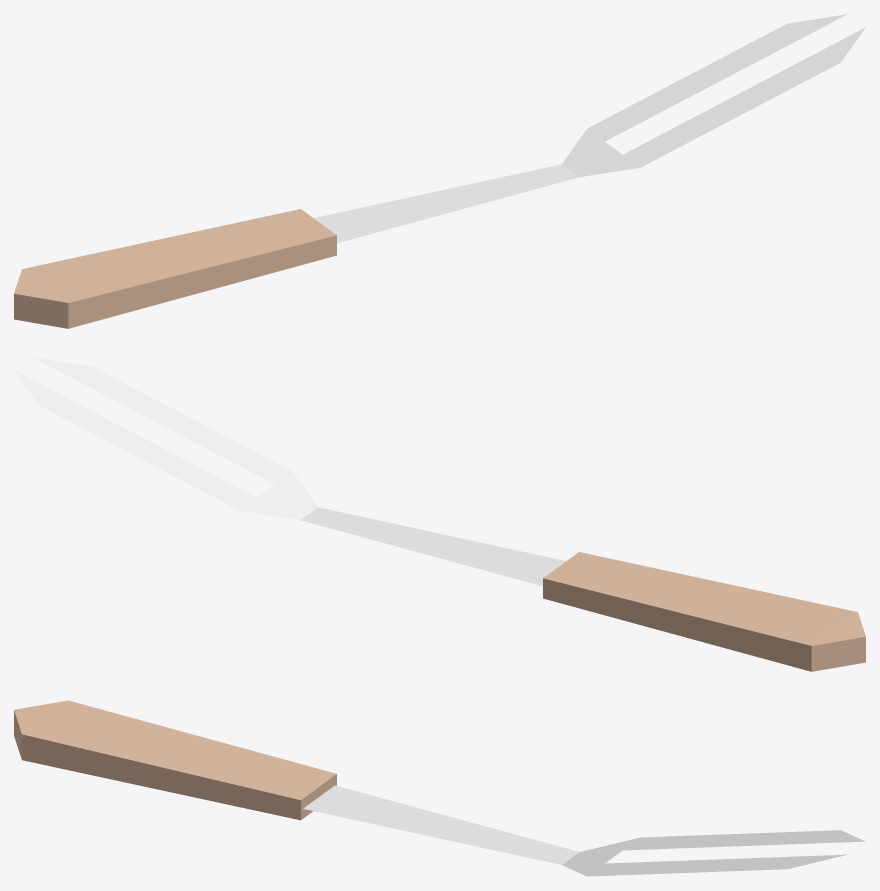
Rendered from cooking_fork.glb.
3 views of the same model, one above another, from view 1: azimuth 30°, elevation 25°; view 2: azimuth 150°, elevation 25°; view 3: azimuth 330°, elevation 25° (orthographic).
Visible parts, largest first — view 1: cookingFork; view 2: cookingFork; view 3: cookingFork.
Boxes of the visible parts, x1,y1,x2,y2 form: cookingFork: [14, 14, 865, 328]; cookingFork: [14, 357, 865, 671]; cookingFork: [14, 700, 865, 876].
Size of the model in its own units: 0.6827 by 0.0721 by 0.0749.
